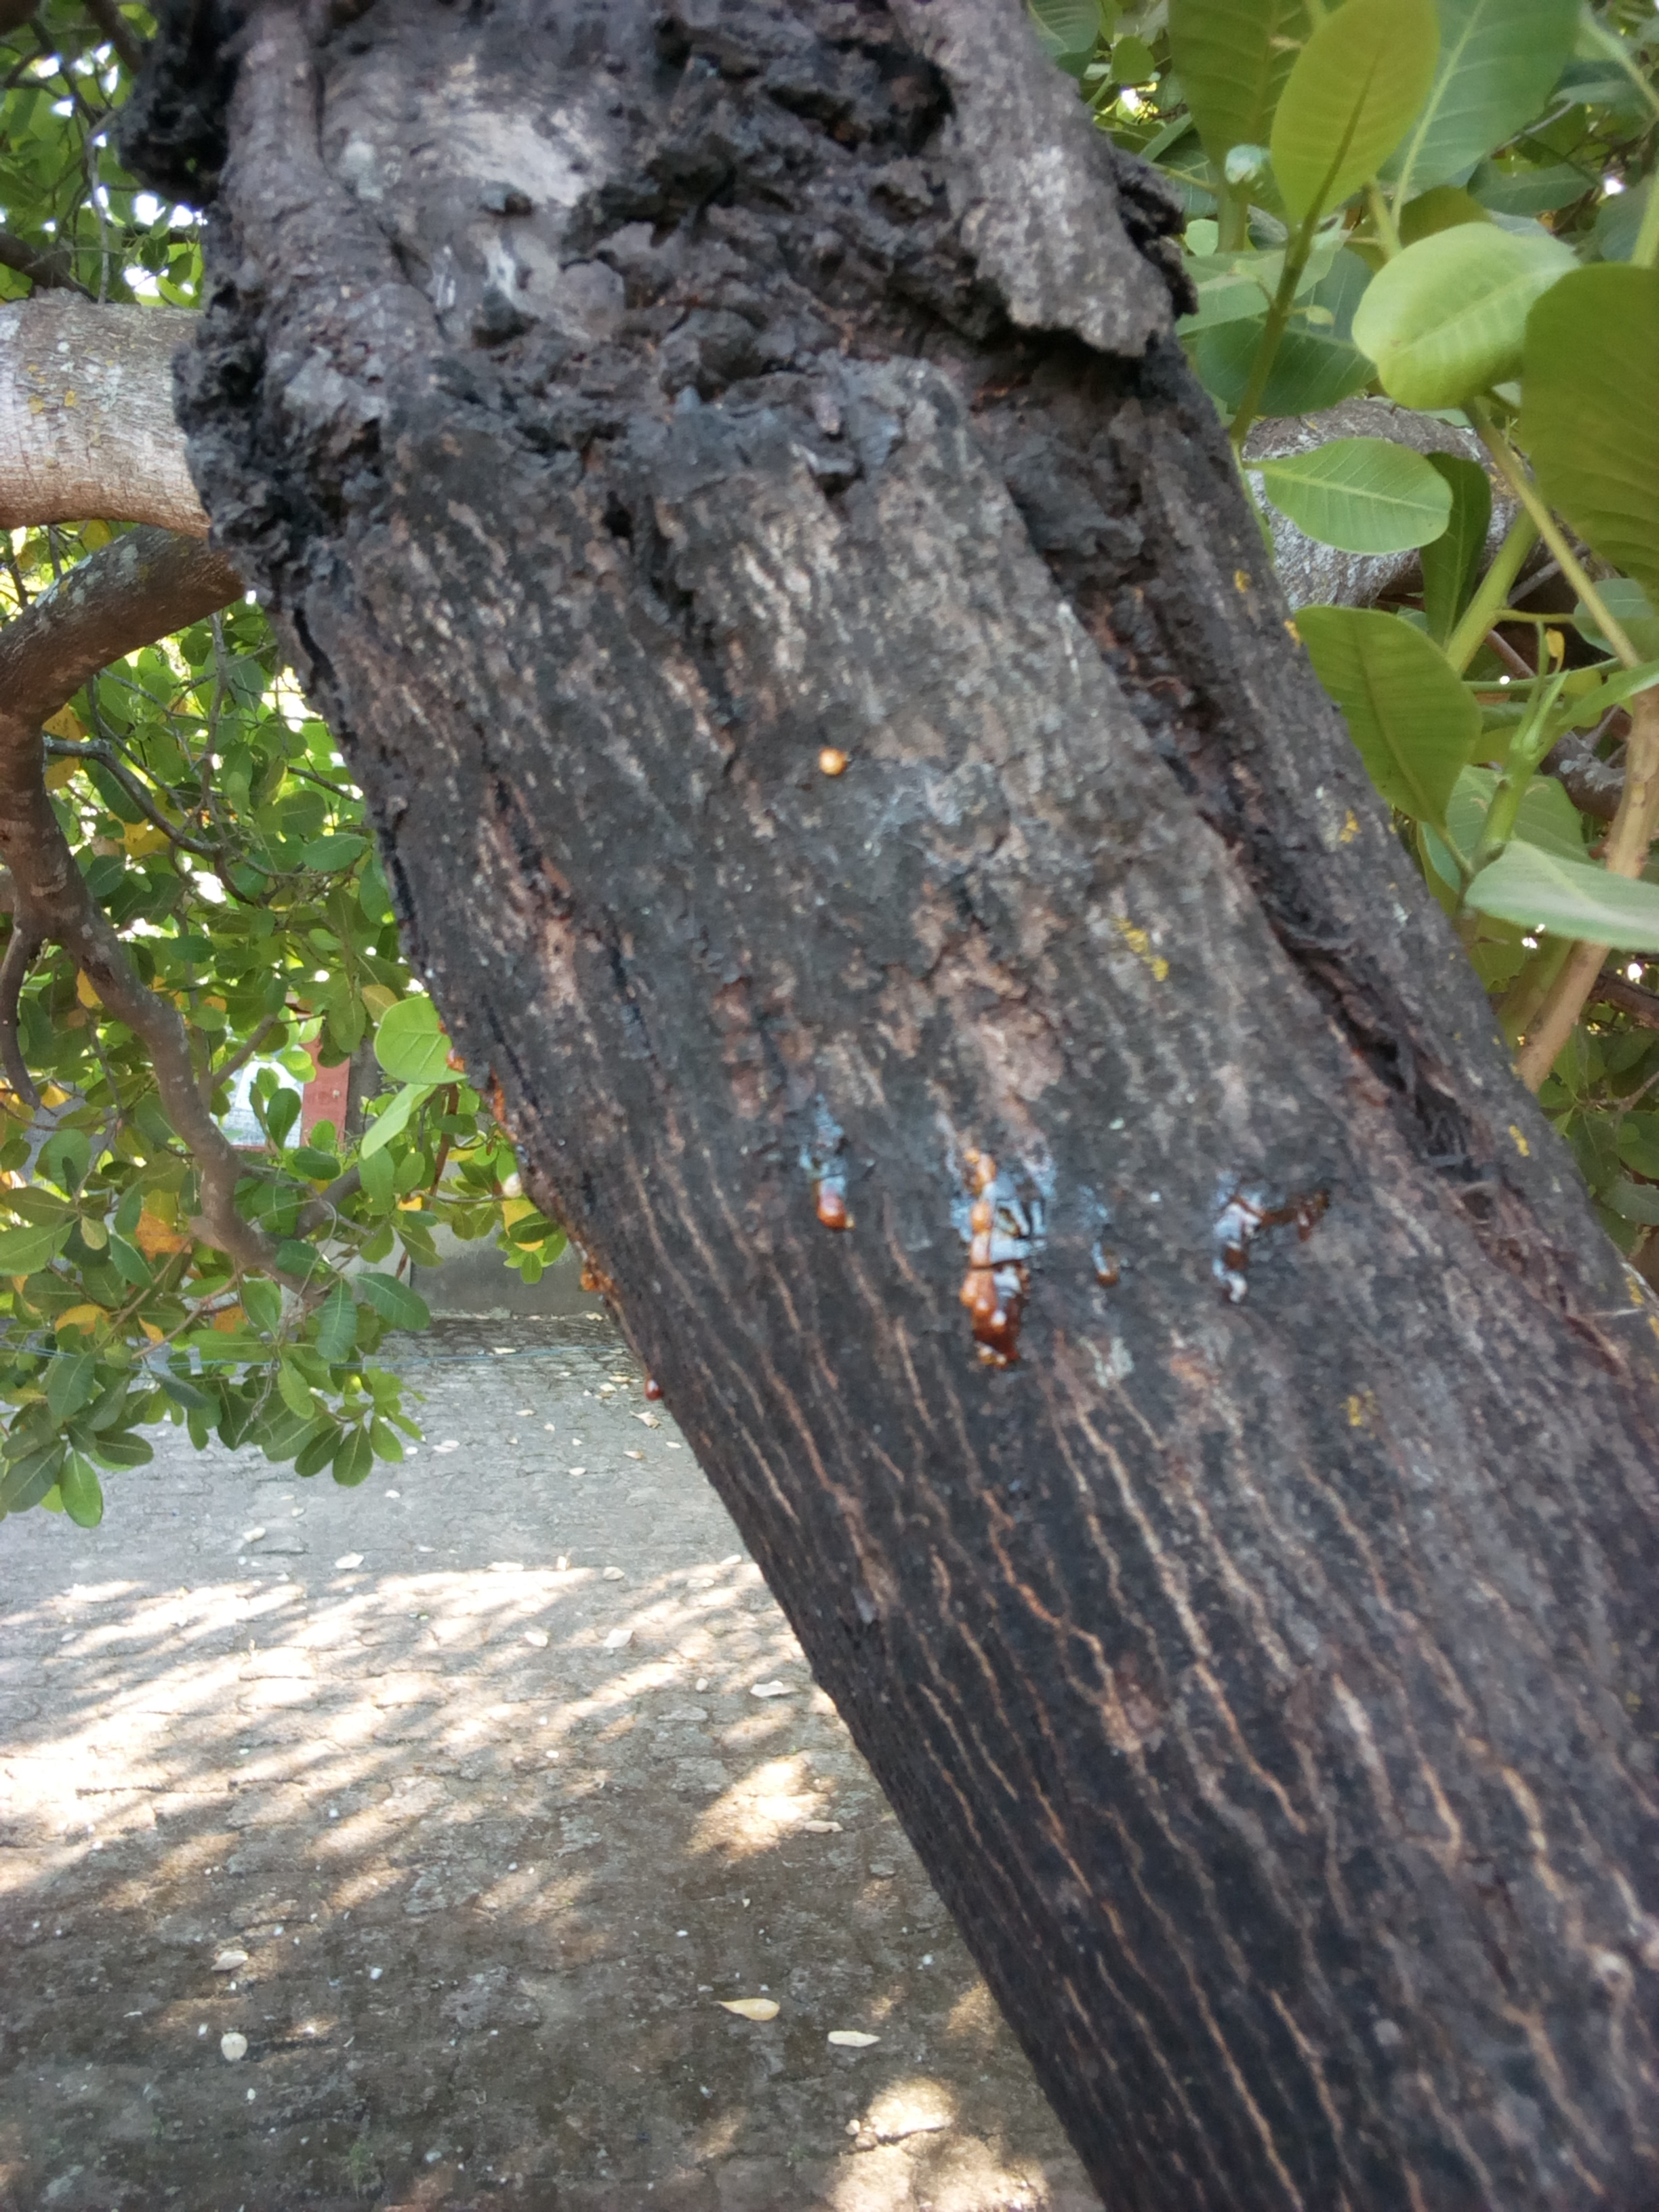Gommose: (802, 1127, 1361, 1374)
